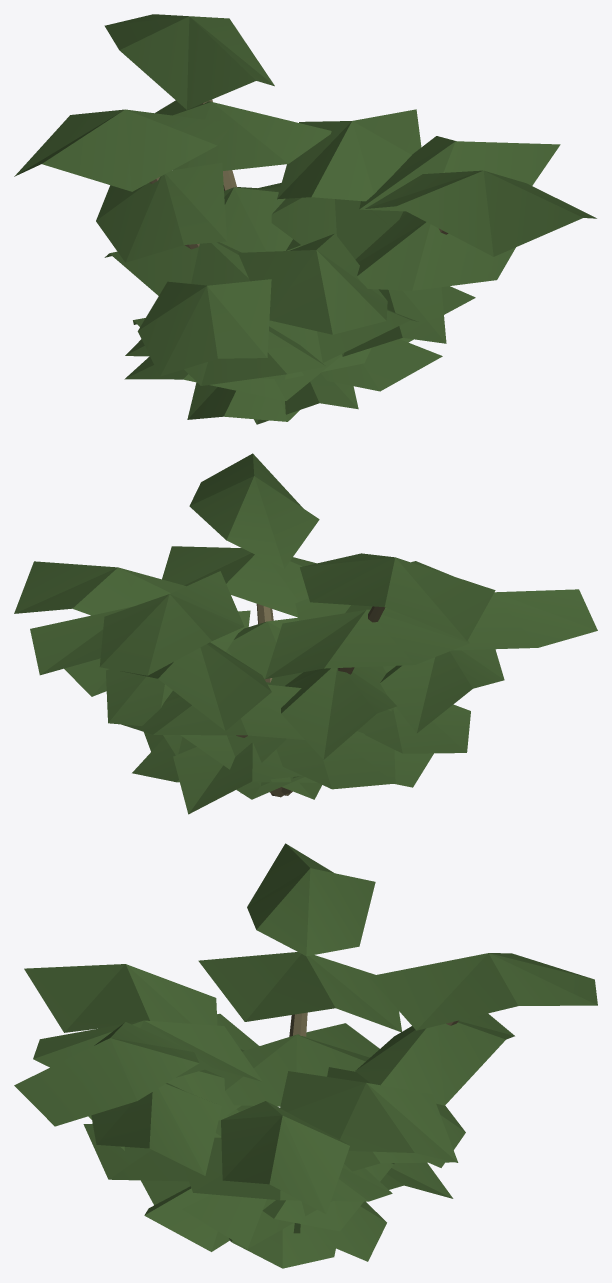
Rendered from taiga-blueberry.glb.
The picture shows the model from 3 angles, top to bottom: view 1: azimuth 30°, elevation 25°; view 2: azimuth 150°, elevation 25°; view 3: azimuth 270°, elevation 25°; orthographic projection. The views are drawn at different scales.
Parts seen in each view (by area): view 1: Черника; view 2: Черника; view 3: Черника.
Part boxes in pixels (<box>): Черника: <box>14,14,596,424</box>; Черника: <box>14,453,597,814</box>; Черника: <box>14,843,597,1268</box>.
Size of the model in its own units: 1.15 by 0.6568 by 1.17.
